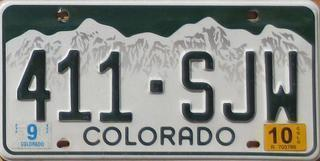placa de veiculo: (4, 2, 313, 156)
